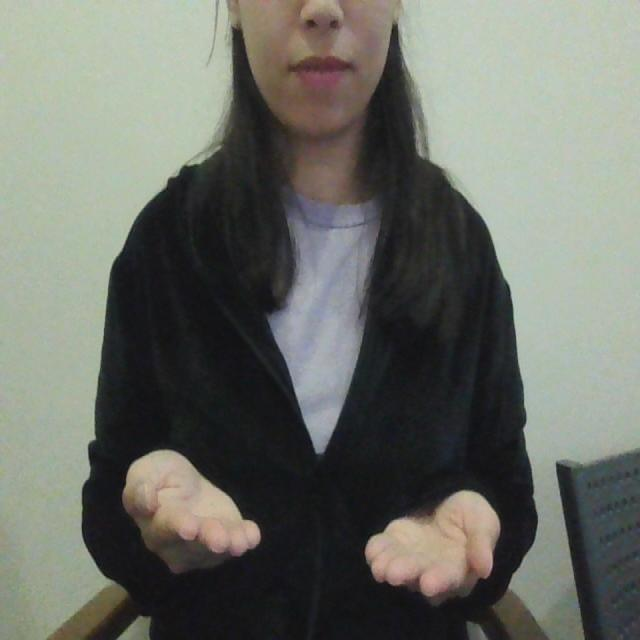Evet: (117, 448, 504, 610)
